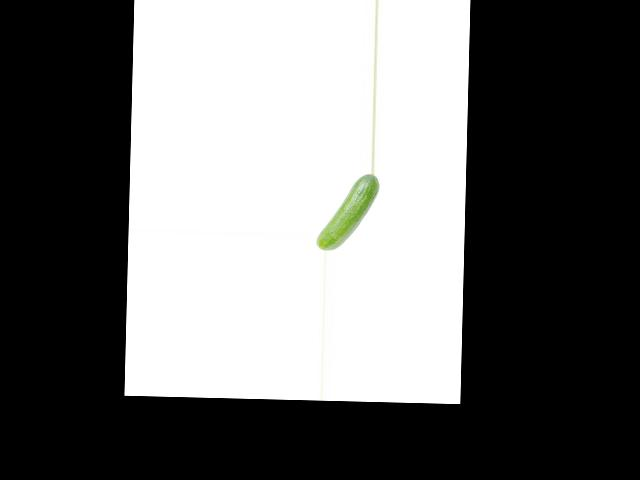cucumber: (316, 172, 380, 252)
